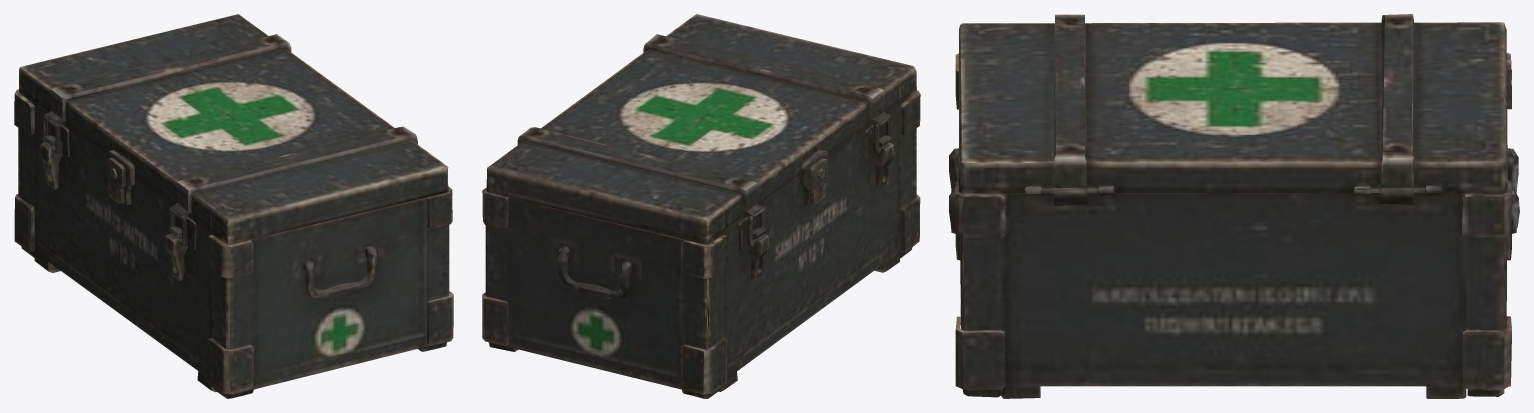
Rendered from health_large.glb.
3 renders of one model, left to right at view 1: azimuth 30°, elevation 25°; view 2: azimuth 150°, elevation 25°; view 3: azimuth 270°, elevation 25°, orthographic. The views are drawn at different scales.
Visible parts, largest first — view 1: model; view 2: model; view 3: model.
Boxes of the visible parts, box(x1,y1,x2,y2) form: model: box(14, 14, 453, 398); model: box(482, 14, 920, 398); model: box(949, 14, 1519, 398).
Bounding box in the file's own units: 0.3193 × 0.2378 × 0.5.
1 material, 1 textured.
